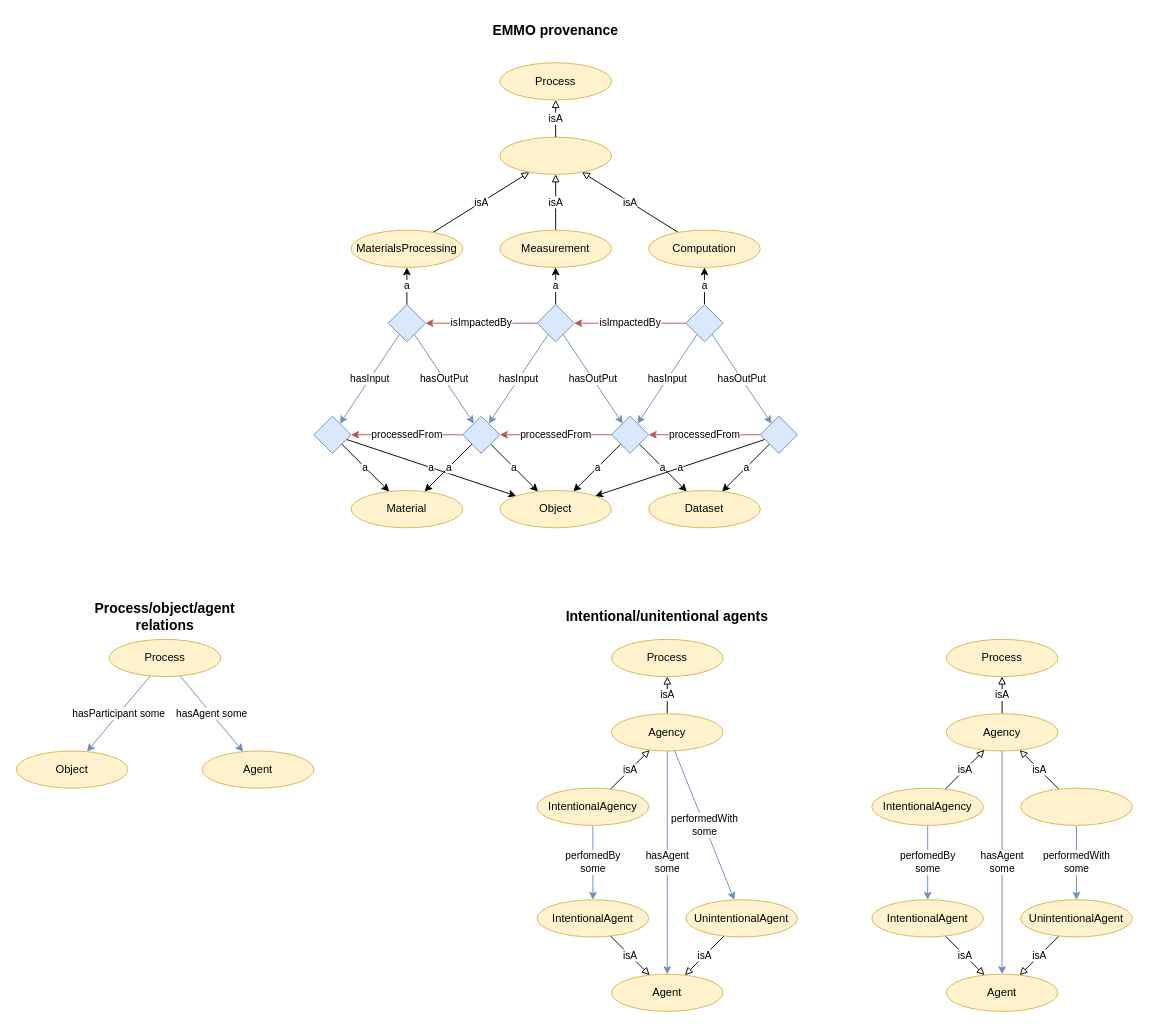
This 1149x1028 diagram has some shape labels left out. Here are the shapes that lost their labels. From the top down, the centre of each, then its label:
At [555,155]: "Procedure".
At [1076,806]: "UnintentionalAgency".
